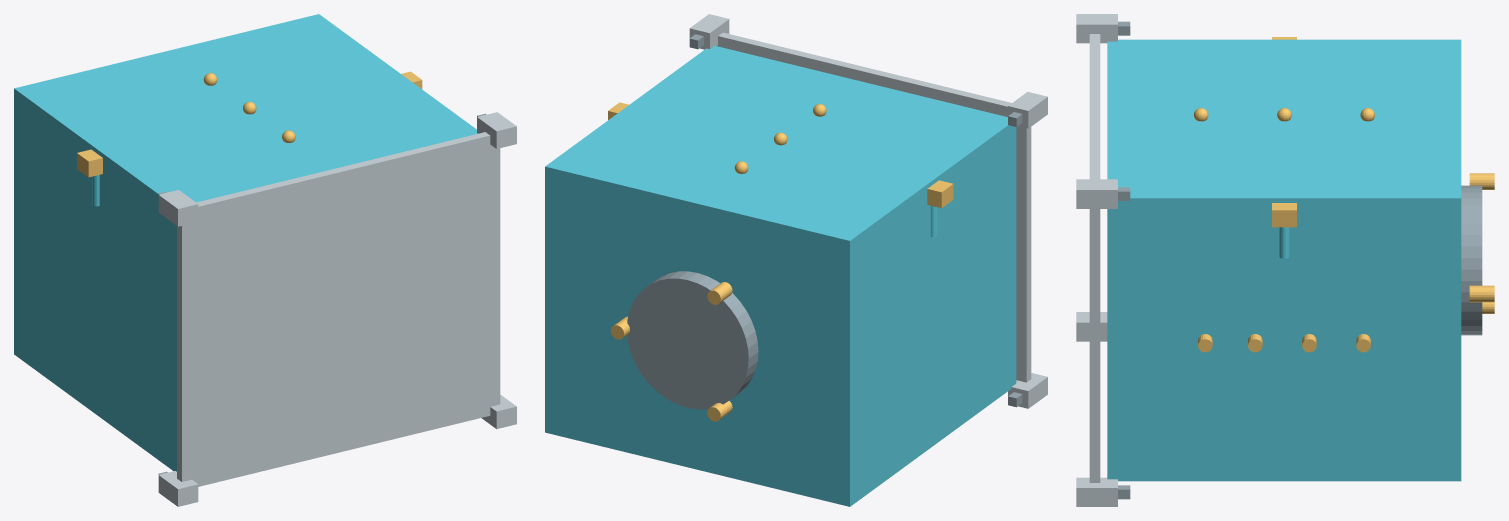
Rendered from WITNESS-BOX-fixture.glb.
3 renders of one model, left to right at view 1: azimuth 30°, elevation 25°; view 2: azimuth 150°, elevation 25°; view 3: azimuth 270°, elevation 25°, orthographic. The views are drawn at different scales.
Parts seen in each view (by area): view 1: metal, shell, sensor; view 2: shell, base, metal, sensor; view 3: shell, metal, base, sensor.
Part boxes in pixels (x1,y1,x2,y2): metal: (158,112,516,506); shell: (14,14,477,471); sensor: (77,71,422,177); shell: (545,45,1016,506); base: (627,34,1022,409); metal: (689,14,1047,408); sensor: (608,102,953,421); shell: (1107,39,1461,481); metal: (1076,14,1117,506); base: (1118,21,1482,499); sensor: (1194,37,1494,352).
Size of the model in its own units: 0.2 by 0.168 by 0.201.
